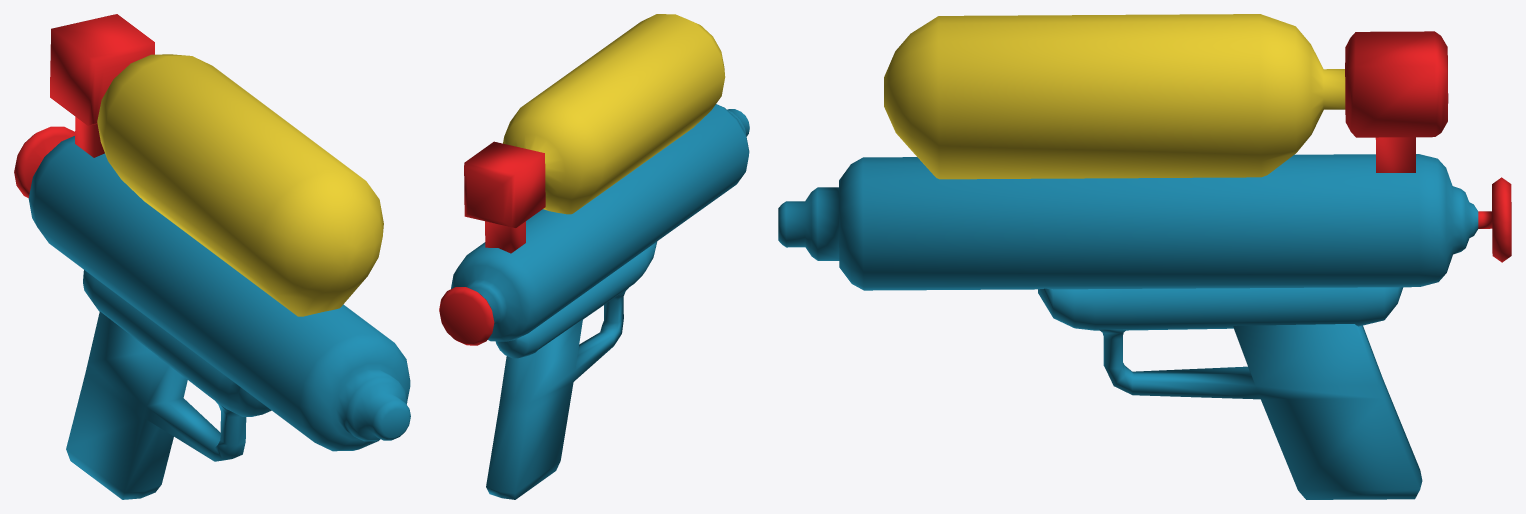
Rendered from PistolaAgua.fbx.
3 renders of one model, left to right at view 1: azimuth 30°, elevation 25°; view 2: azimuth 150°, elevation 25°; view 3: azimuth 270°, elevation 25°, orthographic. The views are drawn at different scales.
Visible parts, largest first — view 1: MANO_DER.001; view 2: MANO_DER.001; view 3: MANO_DER.001.
Boxes of the visible parts, <box> form: MANO_DER.001: <box>14,14,410,499</box>; MANO_DER.001: <box>439,14,749,499</box>; MANO_DER.001: <box>778,14,1511,499</box>.
Bounding box in the file's own units: 31.52 × 108 × 151.
